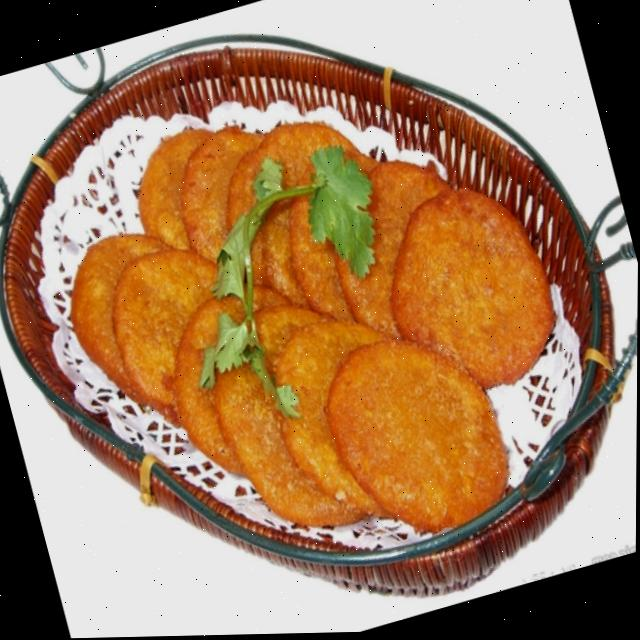炸货点心: (6, 0, 639, 630)
蛋糕甜品: (6, 0, 639, 630)
